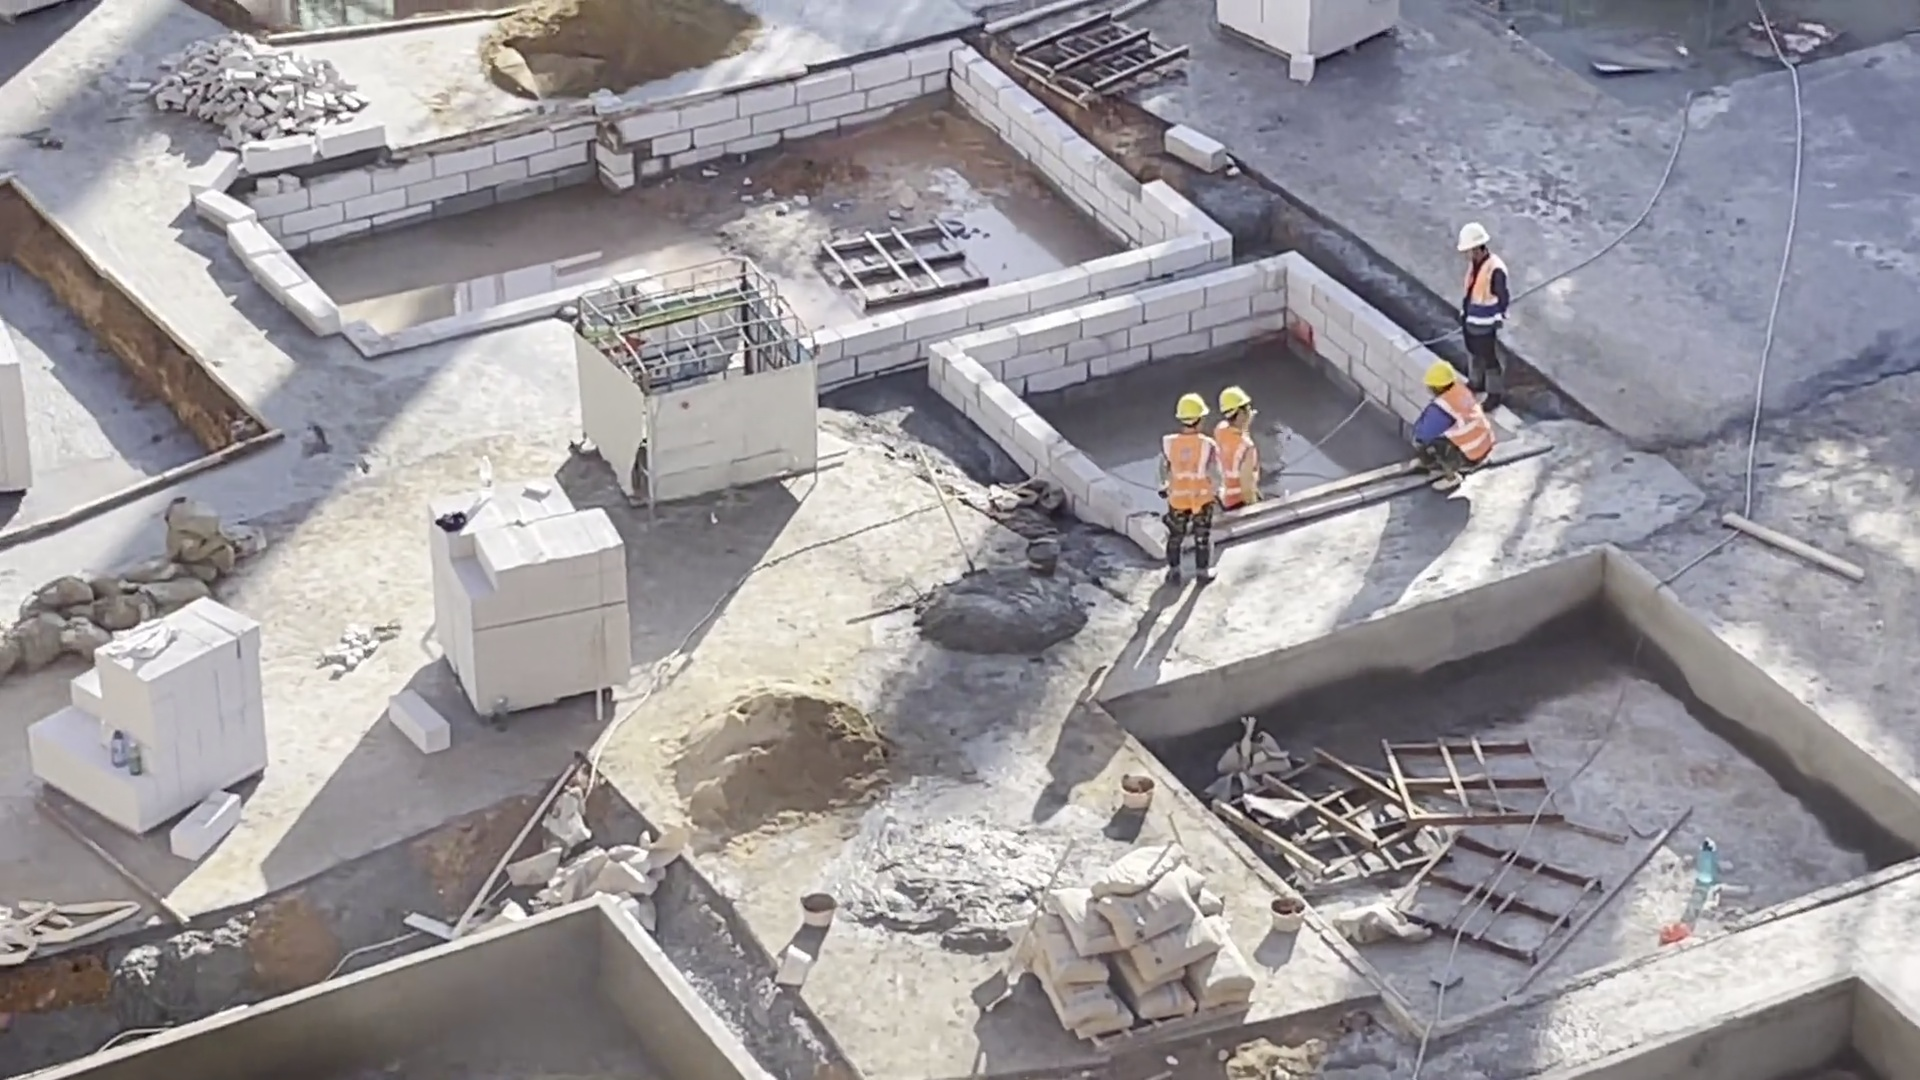helmet: (1409, 360, 1455, 404), (1448, 216, 1497, 248), (1175, 390, 1212, 430), (1208, 389, 1252, 418)
person: (1392, 356, 1514, 494), (1452, 213, 1528, 405), (1156, 379, 1222, 589), (1208, 378, 1259, 535)
vest: (1157, 435, 1215, 515), (1429, 401, 1496, 467), (1209, 416, 1250, 489), (1471, 259, 1507, 324)
